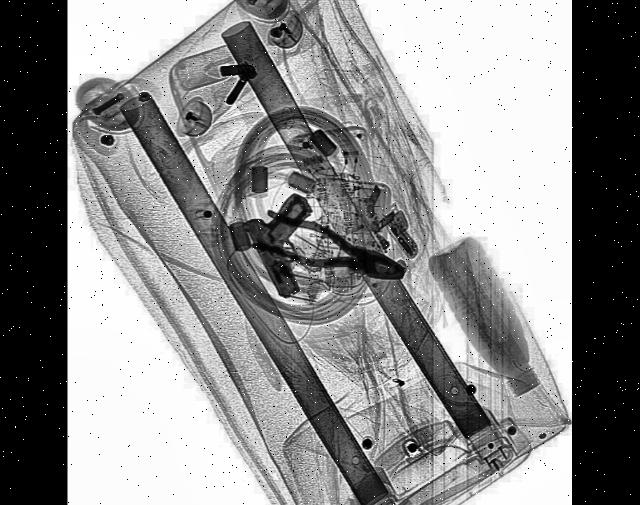Gun: (239, 171, 334, 308)
Pliers: (250, 201, 407, 294)
